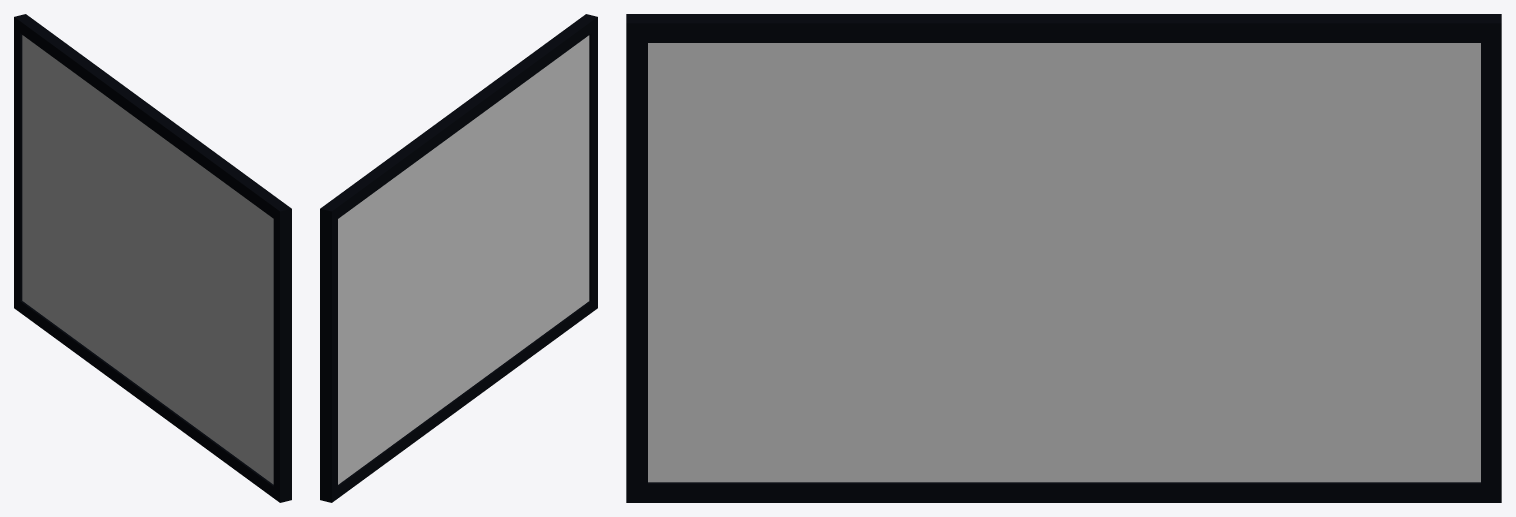
The model's file is PosterColab.fbx.
3 views of the same model, side by side, from view 1: azimuth 30°, elevation 25°; view 2: azimuth 150°, elevation 25°; view 3: azimuth 270°, elevation 25° (orthographic). The views are drawn at different scales.
Parts seen in each view (by area): view 1: PosterColab; view 2: PosterColab; view 3: PosterColab.
Boxes of the visible parts, <box> form: PosterColab: <box>14,14,291,502</box>; PosterColab: <box>320,14,597,502</box>; PosterColab: <box>626,14,1501,502</box>.
Bounding box in the file's own units: 5.92 × 141 × 233.
